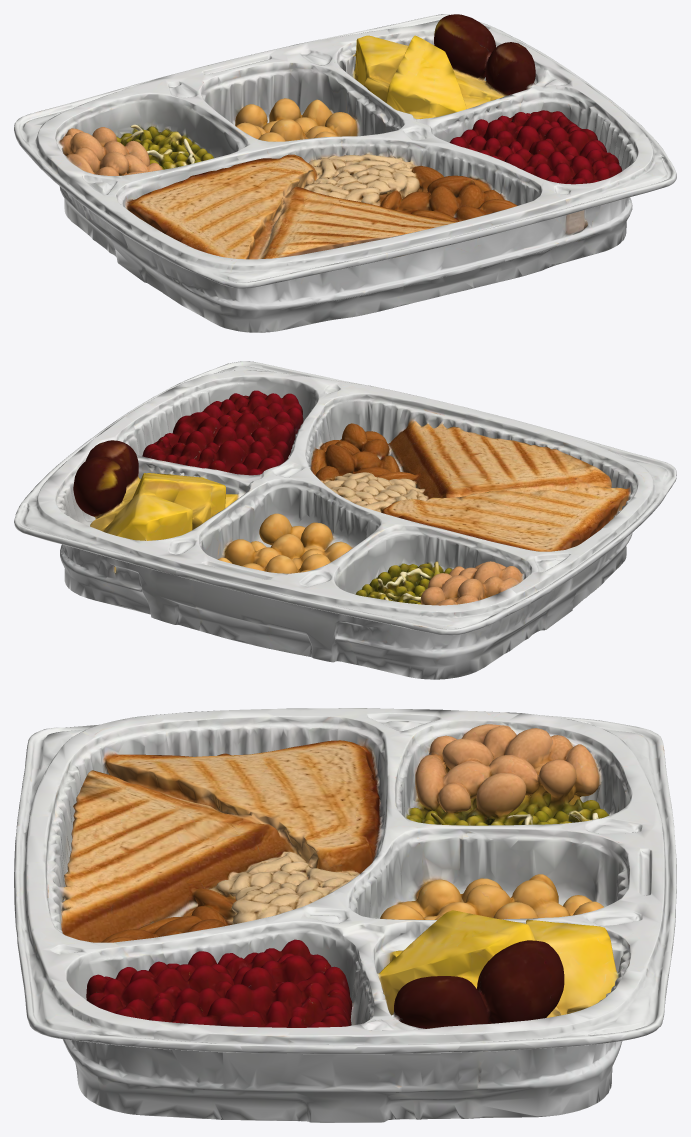
The model's file is Standard_veg_sandwhich.glb.
The picture shows the model from 3 angles, top to bottom: view 1: azimuth 30°, elevation 25°; view 2: azimuth 150°, elevation 25°; view 3: azimuth 270°, elevation 25°; orthographic projection. The views are drawn at different scales.
Bounding box in the file's own units: 1.9 × 0.4085 × 1.57.
1 material, 1 textured.
